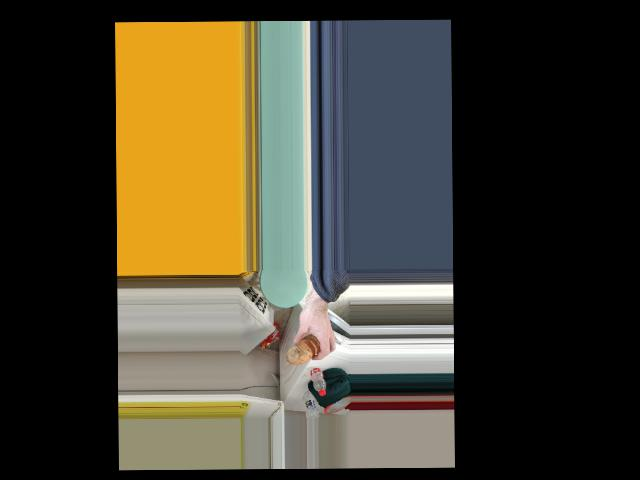sweet_potato: (287, 335, 317, 366)
